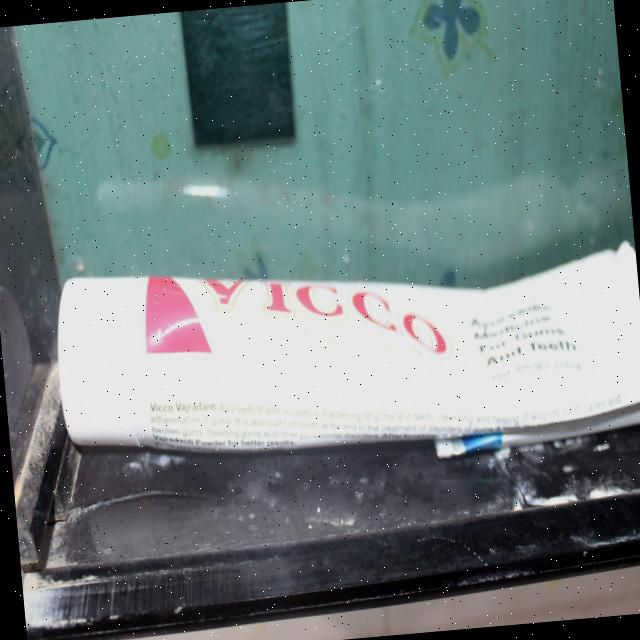Toothpaste: (43, 224, 640, 494)
